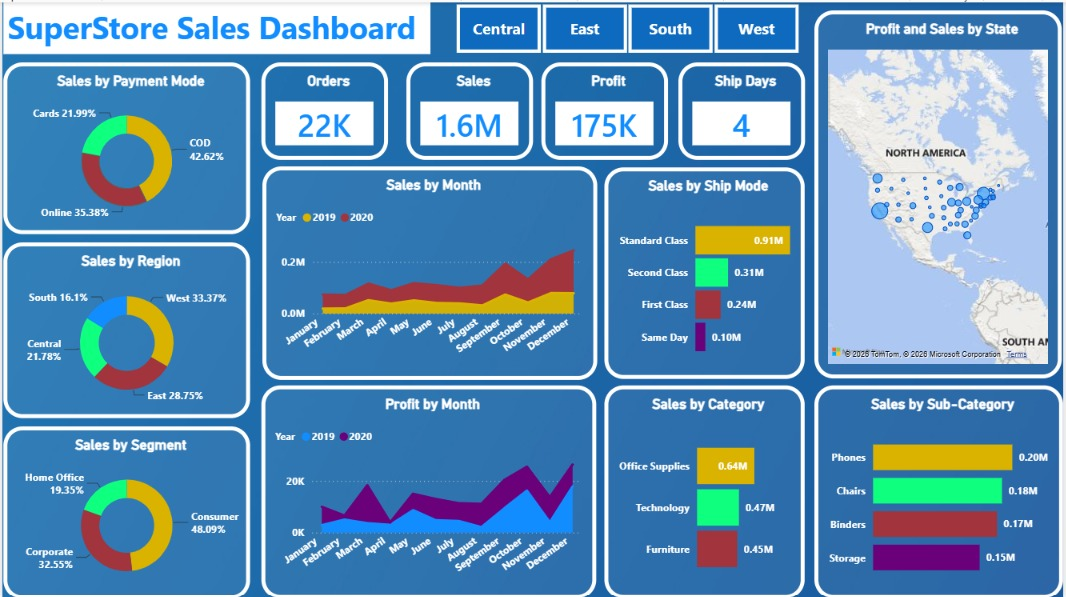

Layout of this report page (visuals, bound fields, positions):
{"tool":"powerbi","page":{"name":"Page 1","canvas":[1280,720],"ordinal":0},"visuals":[{"type":"donutChart","title":"Sales by Payment Mode","fields":{"Category":["Sheet1.Payment Mode"],"Y":["Sum(Sheet1.Sales)"]},"box":[1.2,72.4,298,207.5],"z":0},{"type":"donutChart","title":"Sales by Region","fields":{"Y":["Sum(Sheet1.Sales)"],"Category":["Sheet1.Region"]},"box":[1.2,290,298,212.3],"z":1000},{"type":"donutChart","title":"Sales by Segment","fields":{"Y":["Sum(Sheet1.Sales)"],"Category":["Sheet1.Segment"]},"box":[1.2,511.2,298,208.7],"z":2000},{"type":"map","title":"Profit and Sales by S","fields":{"Category":["Sheet1.State"],"Size":["Sum(Sheet1.Sales)"]},"box":[980,10,298.8,443.8],"z":3000},{"type":"barChart","title":"Sales by Sub-Category","fields":{"Category":["Sheet1.Sub-Category"],"Y":["Sum(Sheet1.Sales)"]},"box":[980,462.5,300,257.5],"z":4000},{"type":"barChart","title":"Sales by Ship Mode","fields":{"Y":["Sum(Sheet1.Sales)"],"Category":["Sheet1.Ship Mode"]},"box":[726.2,198.8,241.2,255],"z":5000},{"type":"barChart","title":"Sales by Category","fields":{"Y":["Sum(Sheet1.Sales)"],"Category":["Sheet1.Category"]},"box":[726.2,462.5,241.2,257.5],"z":6000},{"type":"stackedAreaChart","title":"Profit by Month","fields":{"Y":["Sum(Sheet1.Profit)"],"Category":["Sheet1.Order Date.Variation.Date Hierarchy.Month","Sheet1.Order Date.Variation.Date Hierarchy.Day"],"Series":["Sheet1.Order Date.Variation.Date Hierarchy.Year"]},"box":[312.5,462.5,403.8,257.5],"z":7000},{"type":"cardVisual","title":"Orders","fields":{"Data":["Sum(Sheet1.Quantity)"]},"box":[312.5,72.5,152.5,117.5],"z":8000},{"type":"cardVisual","title":"Sales","fields":{"Data":["Sheet1.SUMSales"]},"box":[475.3,72.4,174.9,117],"z":9000},{"type":"cardVisual","title":"Profit","fields":{"Data":["Sheet1.SUMProfit"]},"box":[663.5,73.6,152.5,117.5],"z":10000},{"type":"cardVisual","title":"Ship Days","fields":{"Data":["Sheet1.AverageDelivery"]},"box":[815,72.5,152.5,117.5],"z":11000},{"type":"textbox","box":[1.2,0,515,62.5],"z":12000},{"type":"stackedAreaChart","title":"Sales by Month","fields":{"Category":["Sheet1.Order Date.Variation.Date Hierarchy.Month","Sheet1.Order Date.Variation.Date Hierarchy.Day"],"Series":["Sheet1.Order Date.Variation.Date Hierarchy.Year"],"Y":["Sum(Sheet1.Sales)"]},"box":[313.8,197.5,403.8,257.5],"z":13000},{"type":"slicer","fields":{"Values":["Sheet1.Region"]},"box":[527.5,0,452.5,62.5],"z":14000}]}

Visuals, with their boxes in screenshot pixels (x1, y1, x2, y2), scaled from the page's 1280x720 canvas onto the 1066x597 screenshot:
"Sales by Payment Mode" donutChart: bbox=(1, 60, 249, 232)
"Sales by Region" donutChart: bbox=(1, 240, 249, 416)
"Sales by Segment" donutChart: bbox=(1, 424, 249, 596)
"Profit and Sales by S" map: bbox=(816, 8, 1065, 376)
"Sales by Sub-Category" barChart: bbox=(816, 383, 1065, 596)
"Sales by Ship Mode" barChart: bbox=(605, 165, 806, 376)
"Sales by Category" barChart: bbox=(605, 383, 806, 596)
"Profit by Month" stackedAreaChart: bbox=(260, 383, 597, 596)
"Orders" cardVisual: bbox=(260, 60, 387, 158)
"Sales" cardVisual: bbox=(396, 60, 541, 157)
"Profit" cardVisual: bbox=(553, 61, 680, 158)
"Ship Days" cardVisual: bbox=(679, 60, 806, 158)
textbox: bbox=(1, 0, 430, 52)
"Sales by Month" stackedAreaChart: bbox=(261, 164, 598, 377)
slicer - Sheet1.Region: bbox=(439, 0, 816, 52)
